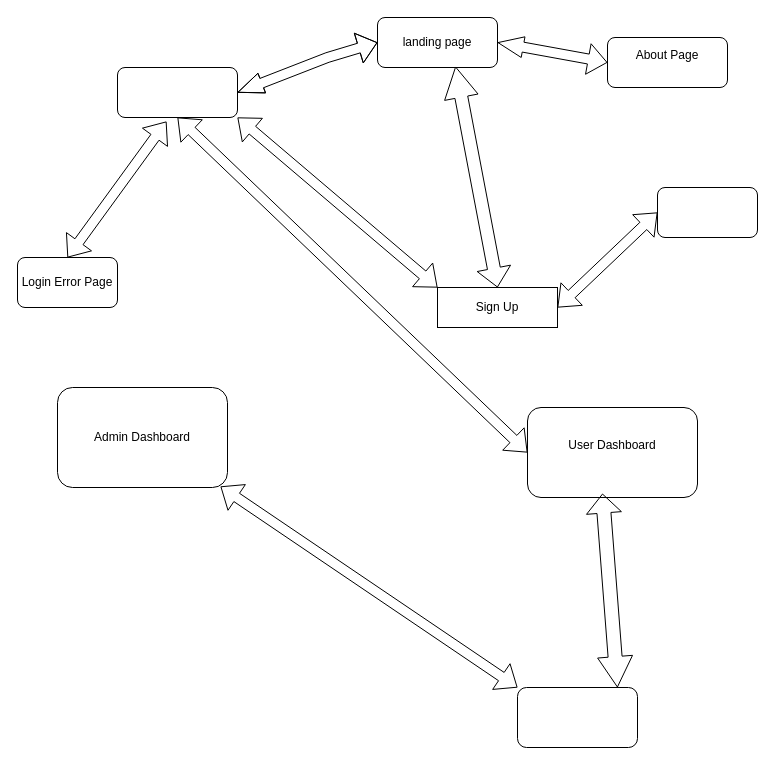
This 775x765 diagram has some shape labels left out. Each missing label, with the box of its shape:
Login Page: (116, 66, 238, 118)
Logout: (516, 686, 638, 748)
Sign Up Error Page: (656, 186, 758, 238)
